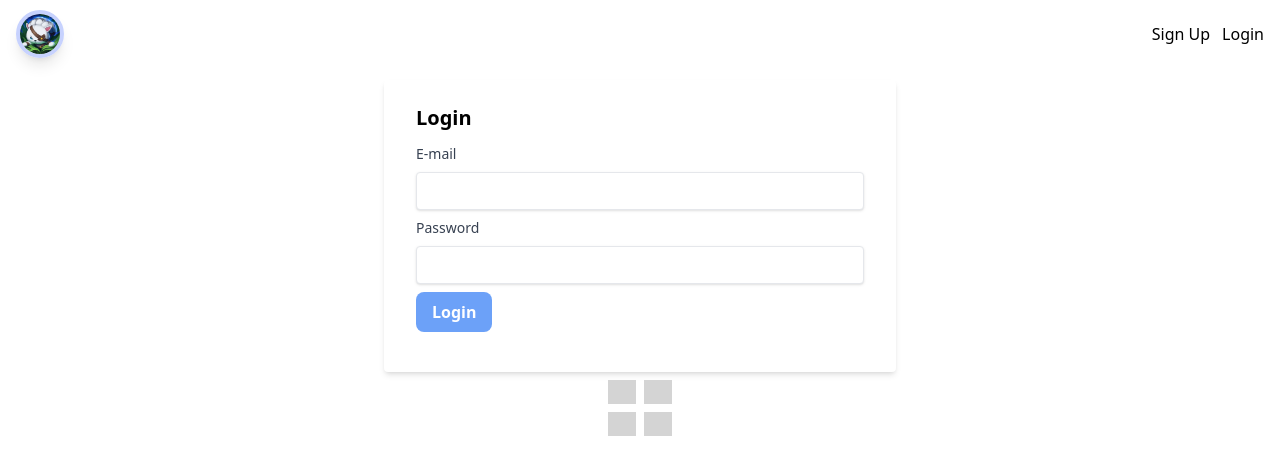
Test: App › Routing › should display home-page when clicking on brand logo
Click the link with test id "home-logo": (44, 34) [16,10,72,58]
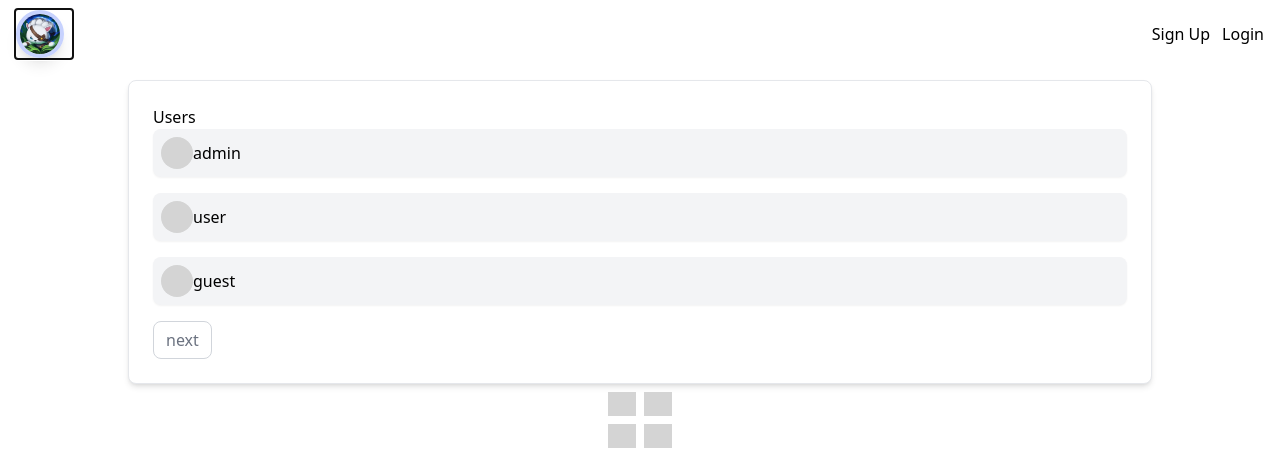
expect the element with test id "home-page" is shown: met, box [128,80,1152,384]
